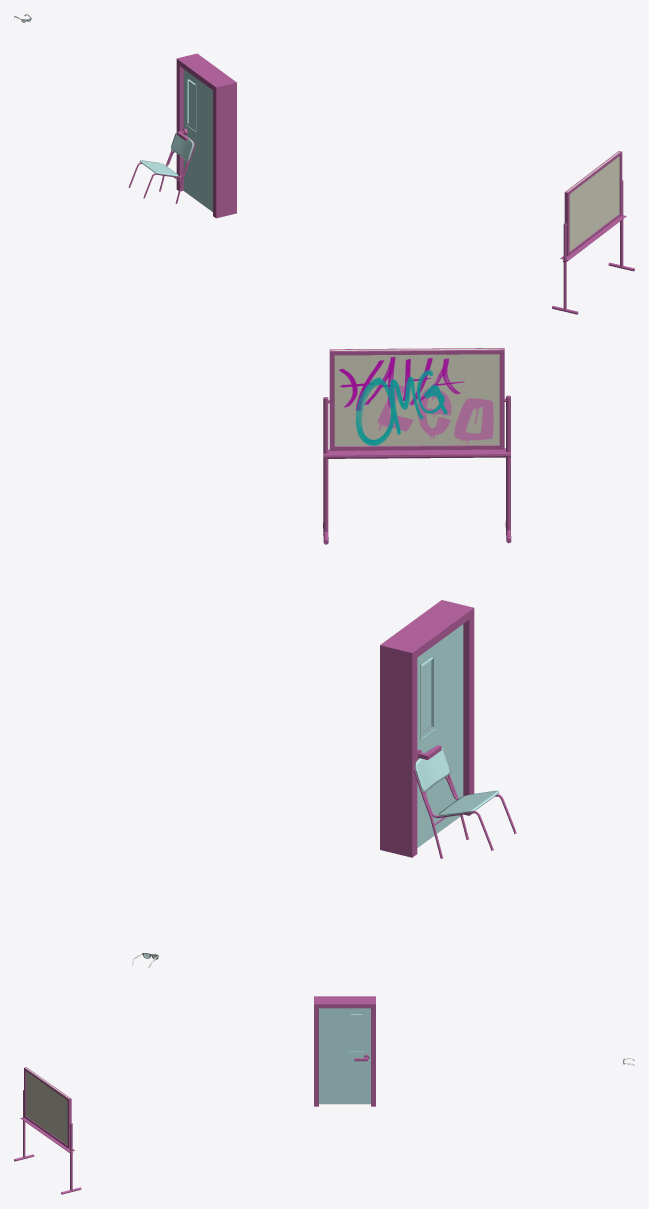
File: room1-highlights.glb
3 views of the same model, one above another, from view 1: azimuth 30°, elevation 25°; view 2: azimuth 150°, elevation 25°; view 3: azimuth 270°, elevation 25° (orthographic). The views are drawn at different scales.
Visible parts, largest first — view 1: encadré, Cube, blanc, ChairWood_L, pieds, cadre, cadre2, ChairMetal_L_remesh; view 2: encadré, blanc, Cube, Plane.44, Plane.42, cadre2, ChairWood_L, Plane.43, pieds, cadre, barre_bas, ChairMetal_L_remesh; view 3: Cube, blanc, encadré, pieds, cadre2, cadre.
Boxes of the visible parts, x1=… form: encadré: x1=176, y1=53, x2=236, y2=218; Cube: x1=183, y1=69, x2=212, y2=211; blanc: x1=566, y1=151, x2=620, y2=251; ChairWood_L: x1=139, y1=132, x2=193, y2=176; pieds: x1=563, y1=180, x2=623, y2=309; cadre: x1=564, y1=151, x2=622, y2=256; cadre2: x1=567, y1=152, x2=620, y2=254; ChairMetal_L_remesh: x1=128, y1=135, x2=194, y2=203; encadré: x1=380, y1=600, x2=474, y2=857; blanc: x1=331, y1=348, x2=503, y2=446; Cube: x1=417, y1=624, x2=463, y2=847; Plane.44: x1=377, y1=385, x2=493, y2=444; Plane.42: x1=355, y1=370, x2=447, y2=445; cadre2: x1=334, y1=348, x2=500, y2=450; ChairWood_L: x1=415, y1=747, x2=499, y2=816; Plane.43: x1=339, y1=356, x2=464, y2=410; pieds: x1=323, y1=395, x2=510, y2=531; cadre: x1=329, y1=348, x2=504, y2=450; barre_bas: x1=323, y1=448, x2=510, y2=456; ChairMetal_L_remesh: x1=414, y1=748, x2=516, y2=858; Cube: x1=319, y1=1008, x2=370, y2=1103; blanc: x1=26, y1=1067, x2=69, y2=1144; encadré: x1=314, y1=996, x2=375, y2=1106; pieds: x1=23, y1=1090, x2=72, y2=1190; cadre2: x1=25, y1=1068, x2=69, y2=1147; cadre: x1=24, y1=1067, x2=71, y2=1148.
Bounding box in the file's own units: 5.58 × 2.27 × 12.48.
10 materials, 3 textured.
